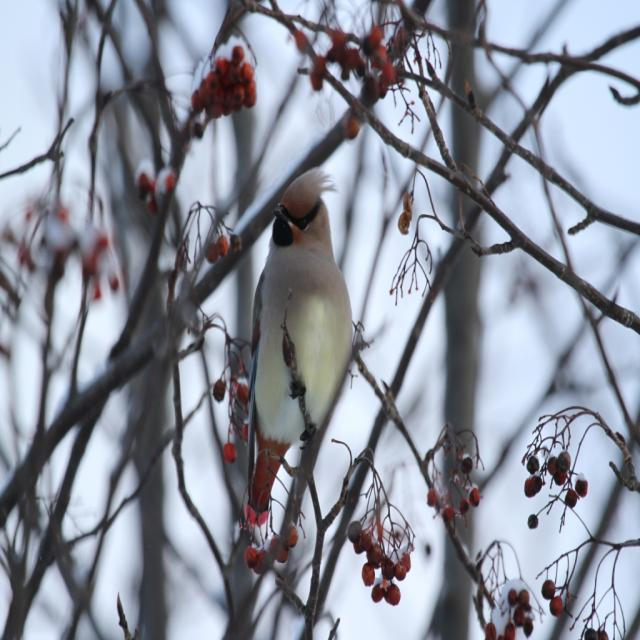bird: (242, 172, 364, 462)
